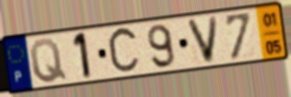1: (71, 30, 93, 81)
7: (224, 10, 254, 62)
9: (146, 23, 178, 69)
C: (106, 24, 143, 78)
Q: (28, 37, 69, 85)
V: (184, 14, 220, 66)
